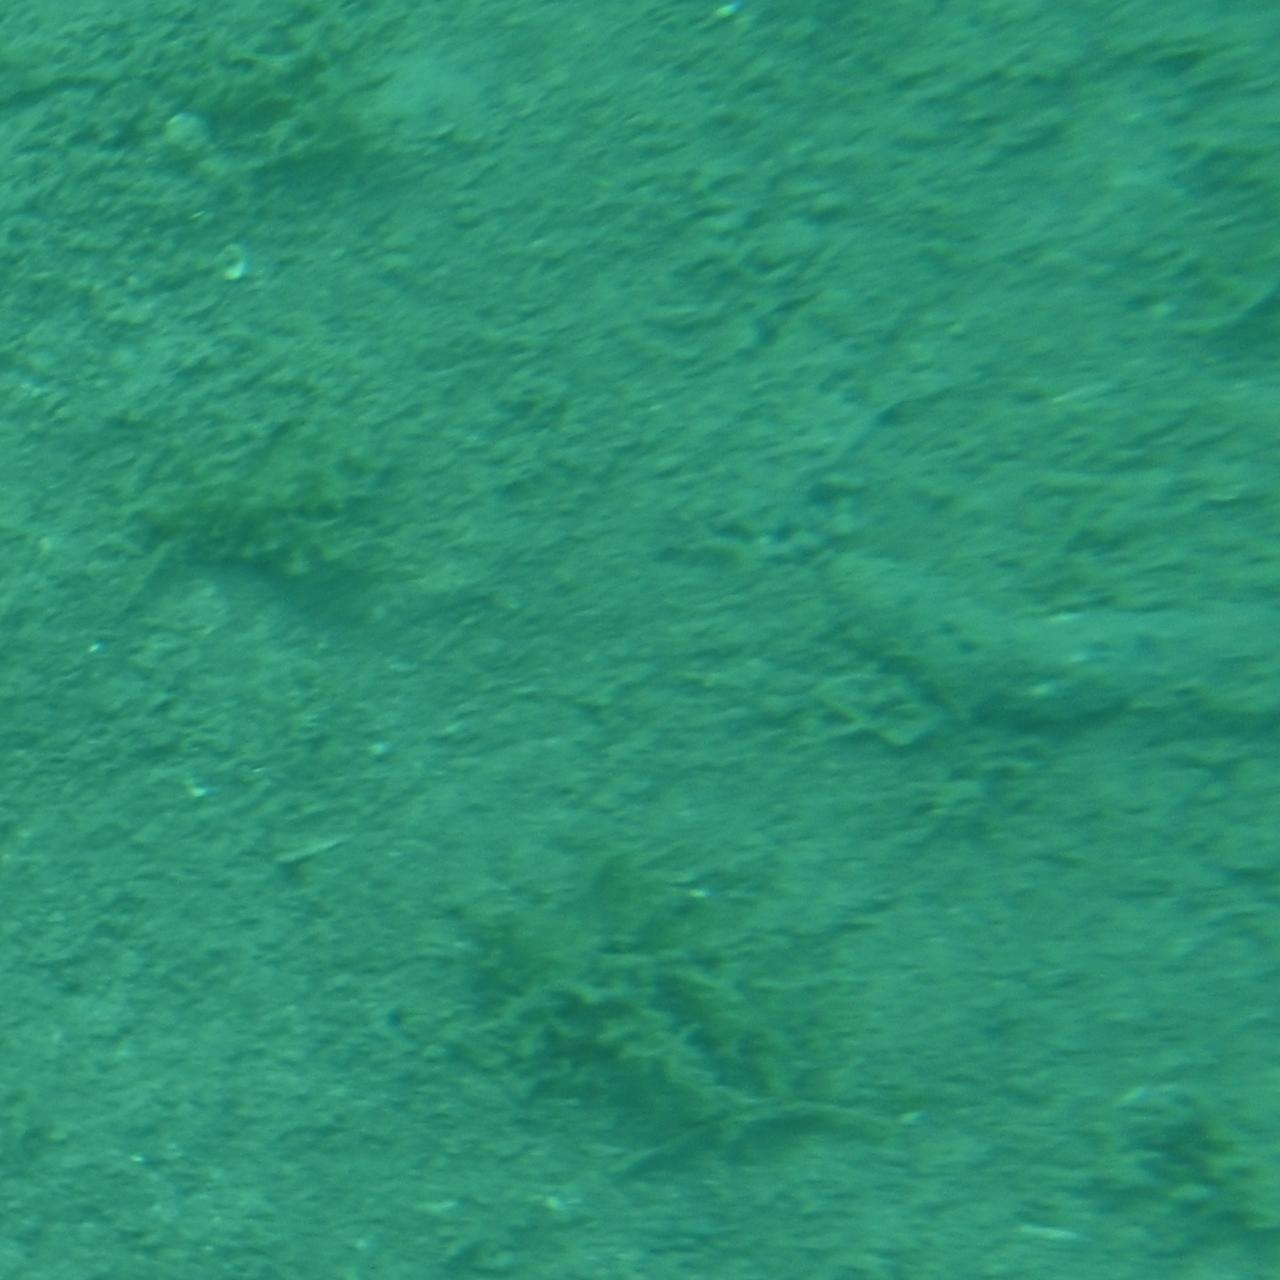Holothuria tubulosa: (826, 527, 1280, 753)
